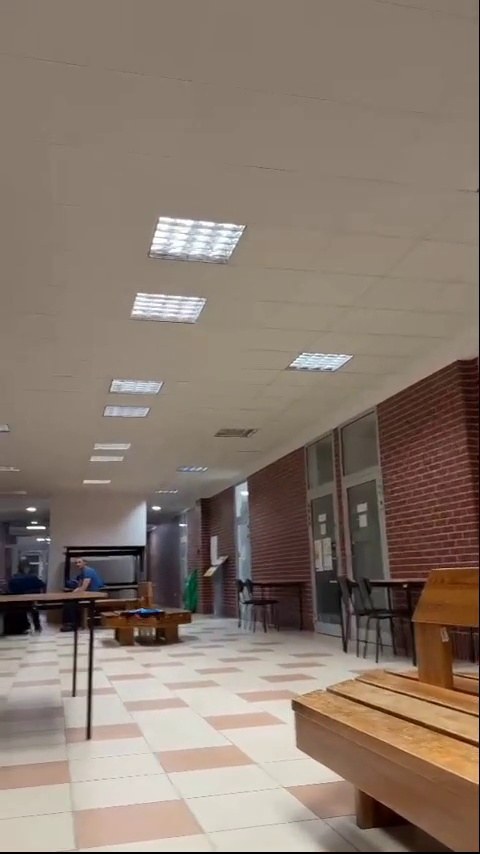drone: (134, 601, 168, 620)
no vest: (68, 559, 101, 611)
